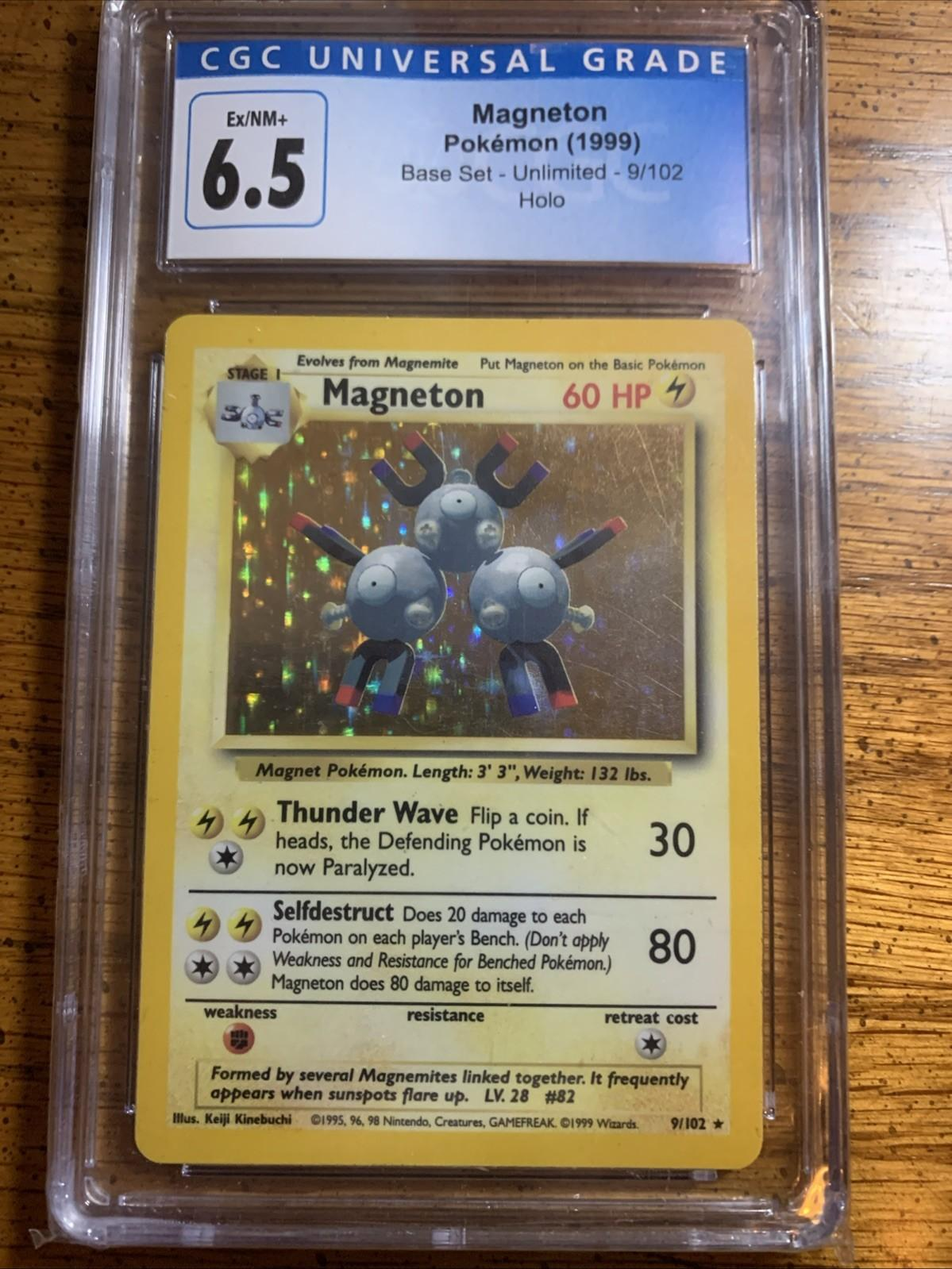card-2UtV: (134, 313, 763, 1170)
